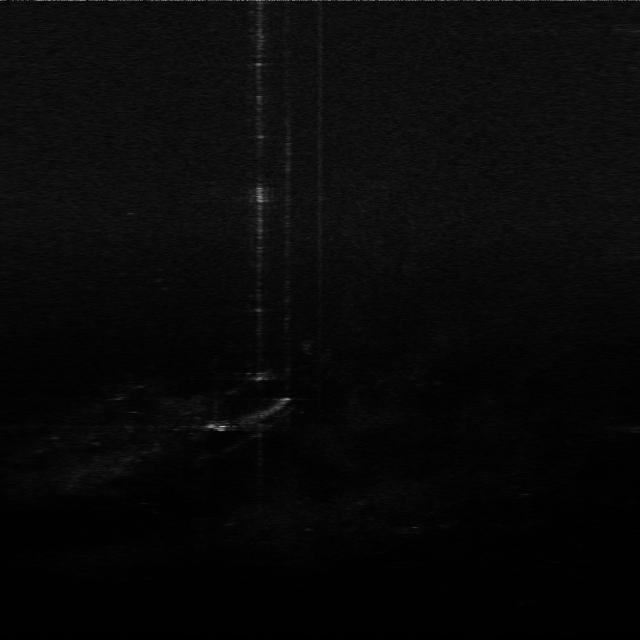rov: (203, 417, 233, 435)
